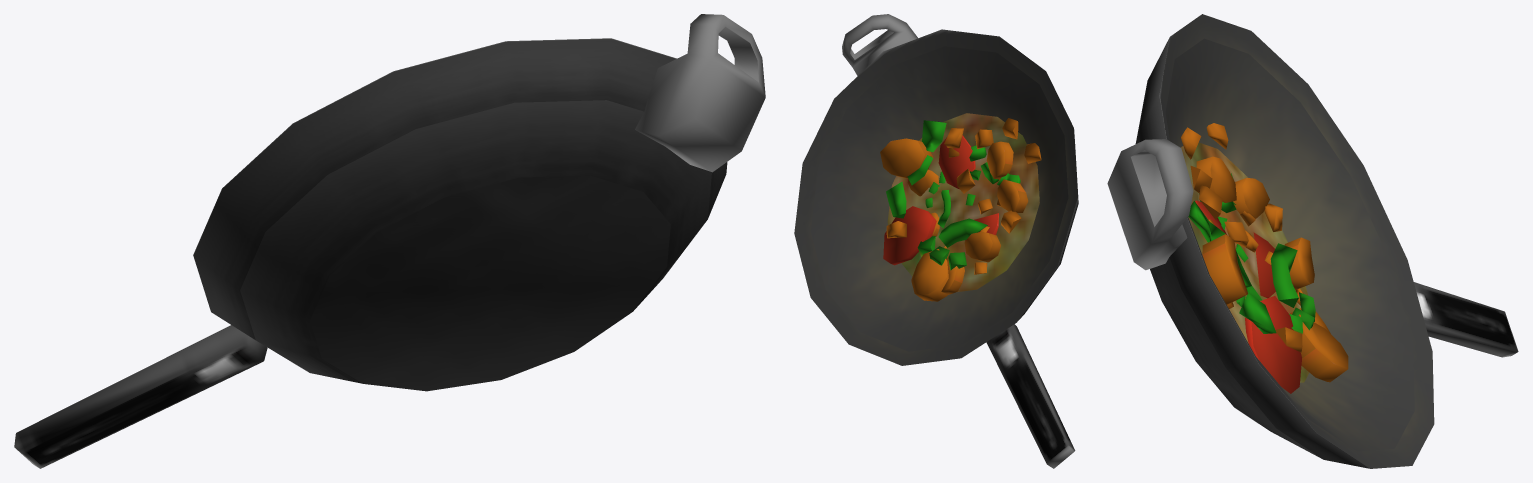
Rendered from H_Wok_StirFry.fbx.
3 renders of one model, left to right at view 1: azimuth 30°, elevation 25°; view 2: azimuth 150°, elevation 25°; view 3: azimuth 270°, elevation 25°, orthographic. The views are drawn at different scales.
Visible parts, largest first — view 1: Wokpan; view 2: Wokpan; view 3: Wokpan.
Part boxes in pixels (left/top/right/bottom): Wokpan: left=14, top=14, right=765, bottom=468; Wokpan: left=794, top=14, right=1078, bottom=468; Wokpan: left=1107, top=14, right=1518, bottom=468.
Size of the model in its own units: 66.37 by 54.54 by 45.99.
